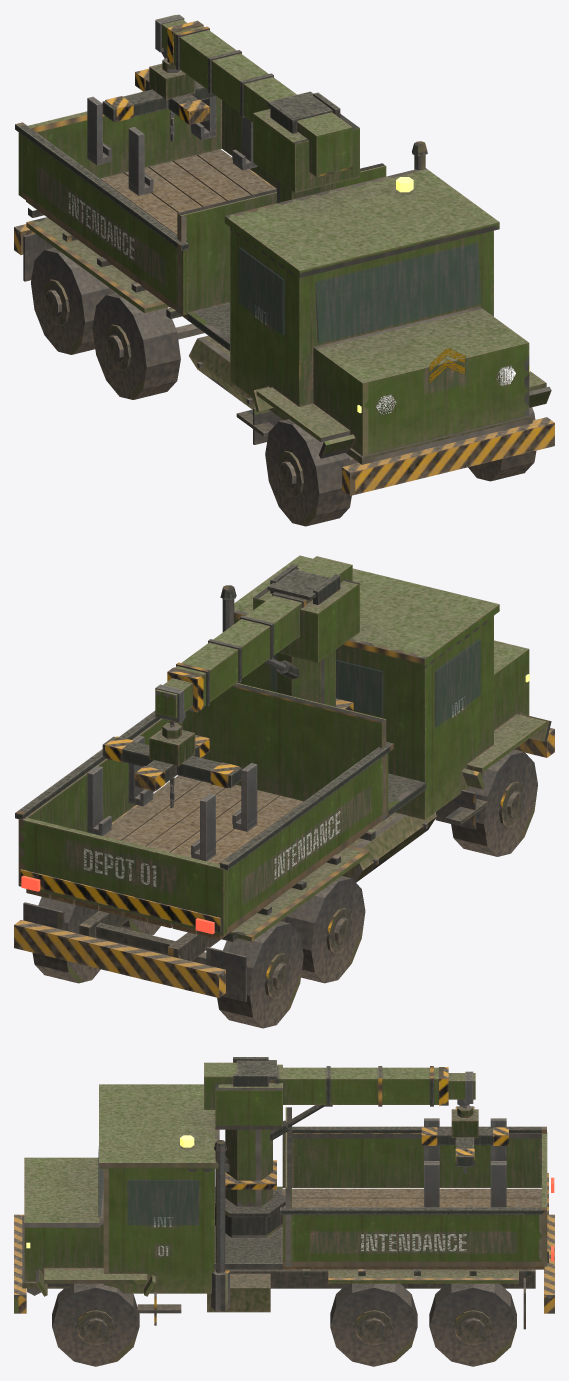
File: voorraadtruck_lod1.glb
3 renders of one model, top to bottom at view 1: azimuth 30°, elevation 25°; view 2: azimuth 150°, elevation 25°; view 3: azimuth 270°, elevation 25°, orthographic. The views are drawn at different scales.
Parts seen in each view (by area): view 1: Carrosserie, Glas, Giek_buis, Laadvloer, Gevaarband, Band_ML, Band_FL, Band_RL, Kolom_romp, Beslag, Carrosserie_donker, Stencil (+14 smaller); view 2: Carrosserie, Gevaarband, Laadvloer, Beslag, Giek_buis, Kolom_romp, Band_RL, Glas, Band_ML, Band_FL, Rubber, Carrosserie_donker (+18 smaller); view 3: Carrosserie, Giek_buis, Beslag, Kolom_romp, Laadvloer, Band_MR, Band_RR, Band_FR, Kraanvoet, Glas, Carrosserie_donker, Techniek (+17 smaller).
Part boxes in pixels (x1,y1,x2,y2): Carrosserie: [18, 97, 551, 458]; Glas: [238, 242, 480, 342]; Giek_buis: [174, 26, 352, 177]; Laadvloer: [26, 149, 274, 319]; Gevaarband: [14, 224, 554, 495]; Band_ML: [92, 292, 180, 399]; Band_FL: [265, 419, 351, 526]; Band_RL: [31, 247, 115, 354]; Kolom_romp: [253, 109, 359, 202]; Beslag: [15, 122, 427, 436]; Carrosserie_donker: [189, 335, 532, 464]; Stencil: [68, 192, 465, 383]; Carrosserie: [18, 555, 551, 941]; Gevaarband: [14, 728, 554, 997]; Laadvloer: [26, 775, 382, 939]; Beslag: [15, 585, 487, 961]; Giek_buis: [175, 556, 352, 706]; Kolom_romp: [253, 568, 359, 706]; Band_RL: [217, 921, 303, 1028]; Glas: [271, 639, 480, 726]; Band_ML: [280, 876, 365, 983]; Band_FL: [451, 749, 537, 856]; Rubber: [23, 790, 476, 1001]; Carrosserie_donker: [342, 812, 436, 882]; Carrosserie: [24, 1084, 547, 1296]; Giek_buis: [204, 1062, 438, 1109]; Beslag: [48, 1126, 546, 1313]; Kolom_romp: [215, 1064, 282, 1206]; Laadvloer: [282, 1188, 544, 1269]; Band_MR: [330, 1283, 417, 1366]; Band_RR: [429, 1283, 516, 1366]; Band_FR: [52, 1283, 139, 1366]; Kraanvoet: [214, 1186, 285, 1269]; Glas: [98, 1149, 215, 1224]; Carrosserie_donker: [22, 1215, 270, 1312]; Techniek: [27, 1151, 229, 1310].
Bounding box in the file's own units: 2.71 × 3.57 × 6.81.
6 materials, 2 textured.
